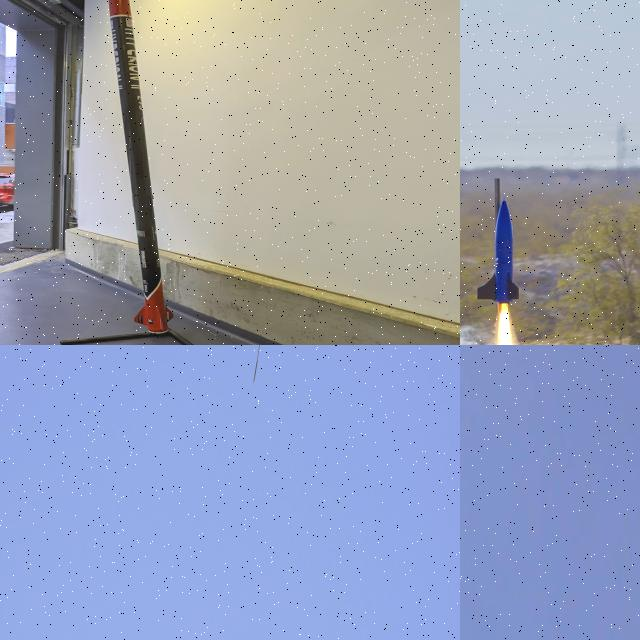Rocket: (108, 0, 174, 334), (476, 195, 521, 306), (253, 345, 261, 384)
